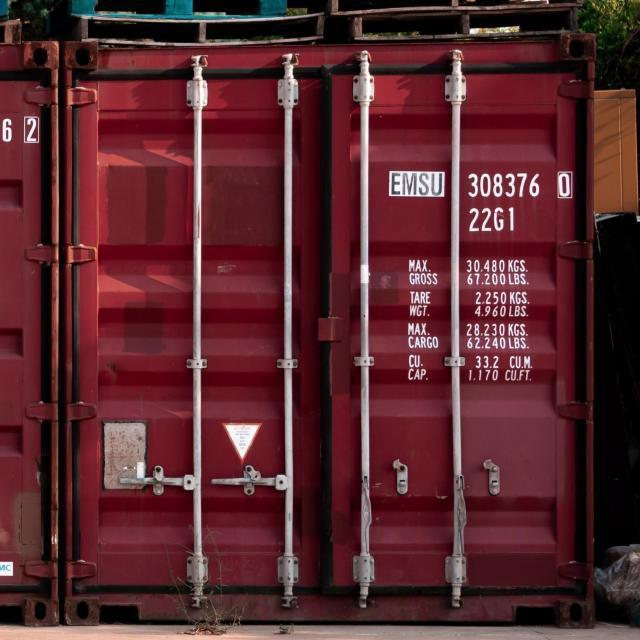ISO: (470, 210, 516, 234)
container_number: (390, 172, 570, 200)
